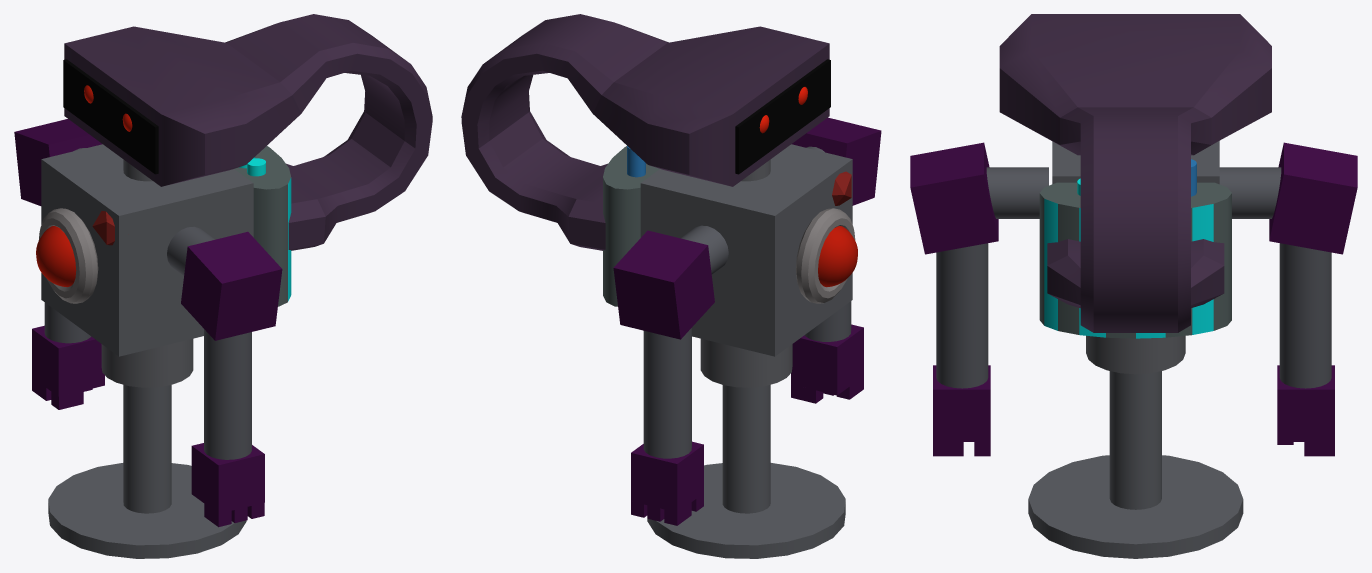
Rendered from BossBotFBX.fbx.
3 views of the same model, side by side, from view 1: azimuth 30°, elevation 25°; view 2: azimuth 150°, elevation 25°; view 3: azimuth 270°, elevation 25° (orthographic). The views are drawn at different scales.
Visible parts, largest first — view 1: pCube9, pCylinder9, RightArm1, RightArm, pCube10, pCylinder11, pCylinder16, pTorus1, pSphere1, pPlatonic1; view 2: pCube9, pCylinder9, RightArm, RightArm1, pCube10, pCylinder11, pCylinder16, pTorus1, pSphere1, pPlatonic1; view 3: pCube9, pCylinder9, RightArm1, RightArm, pCylinder11, pCylinder16.
Part boxes in pixels (x1,y1,x2,y2): pCube9: (64,14,432,250); pCylinder9: (41,144,253,558); RightArm1: (167,226,282,527); RightArm: (14,119,104,409); pCube10: (63,59,158,174); pCylinder11: (234,146,291,306); pCylinder16: (101,338,193,387); pTorus1: (38,208,98,303); pSphere1: (36,226,76,287); pPlatonic1: (92,211,114,245); pCube9: (461,14,829,250); pCylinder9: (640,144,852,558); RightArm: (613,225,728,525); RightArm1: (791,117,881,403); pCube10: (735,59,830,174); pCylinder11: (603,146,659,306); pCylinder16: (700,338,792,387); pTorus1: (795,208,855,303); pSphere1: (818,226,857,287); pPlatonic1: (832,171,851,205); pCube9: (999,14,1271,332); pCylinder9: (1028,141,1243,558); RightArm1: (910,142,1048,456); RightArm: (1219,142,1357,456); pCylinder11: (1039,182,1231,338); pCylinder16: (1086,335,1185,374).
Size of the model in its own units: 17.79 by 20.37 by 17.16.
